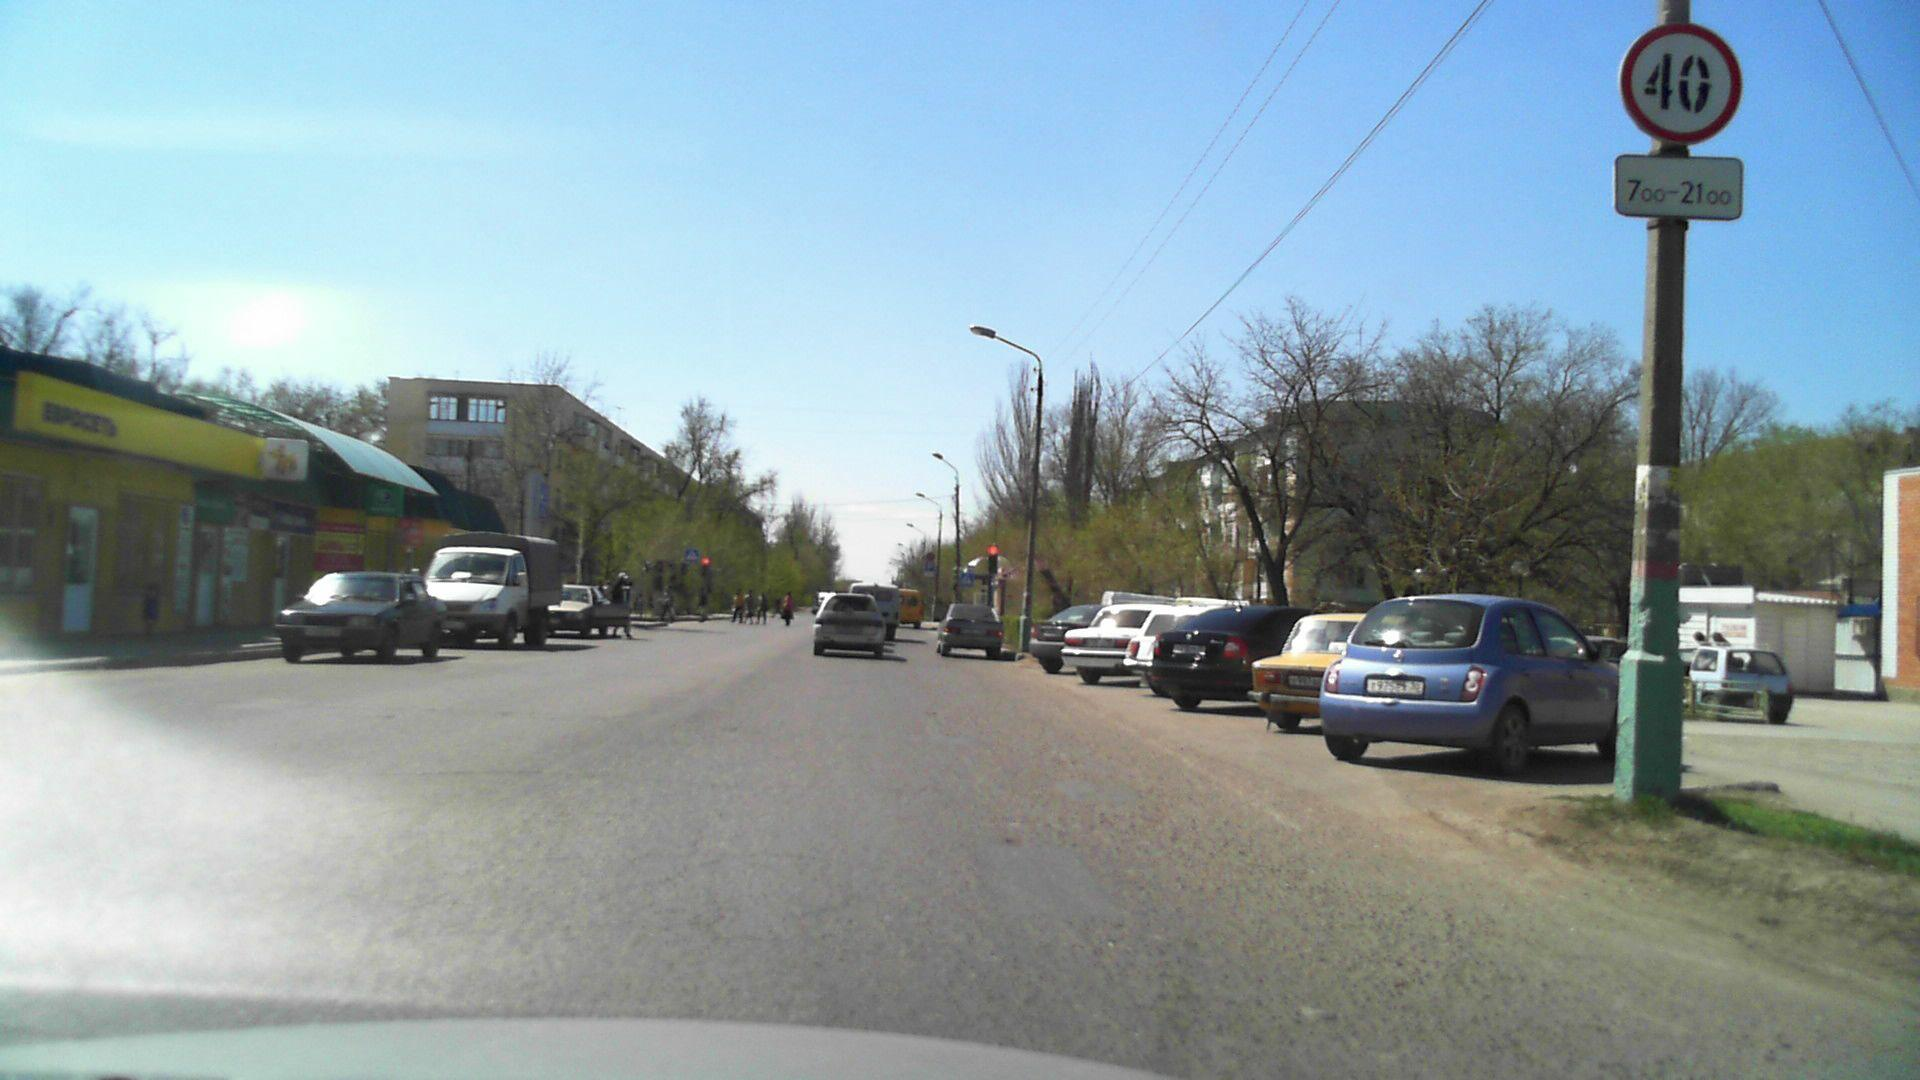3_24: (1617, 22, 1745, 141)
3_27: (926, 553, 935, 560)
5_19_1: (959, 571, 976, 585)
5_19_2: (684, 547, 699, 563)
6_4: (924, 562, 935, 571)
8_1_1: (926, 572, 935, 576)
8_5_4: (1615, 152, 1745, 222)
